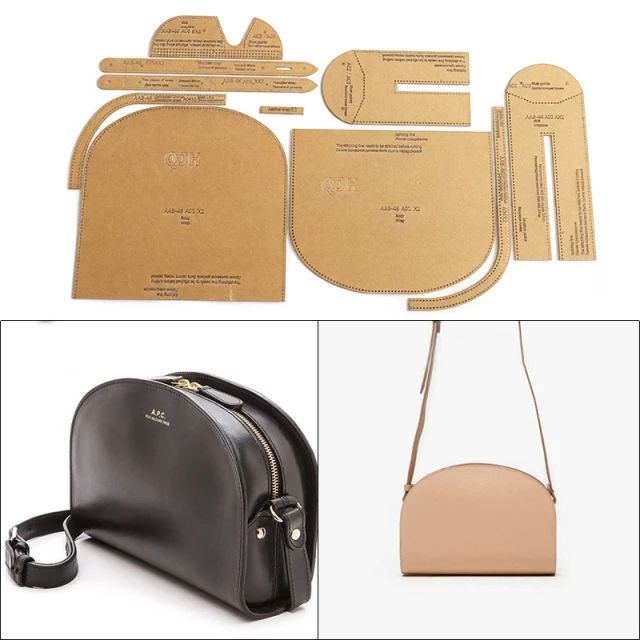cuero: (7, 372, 319, 622)
